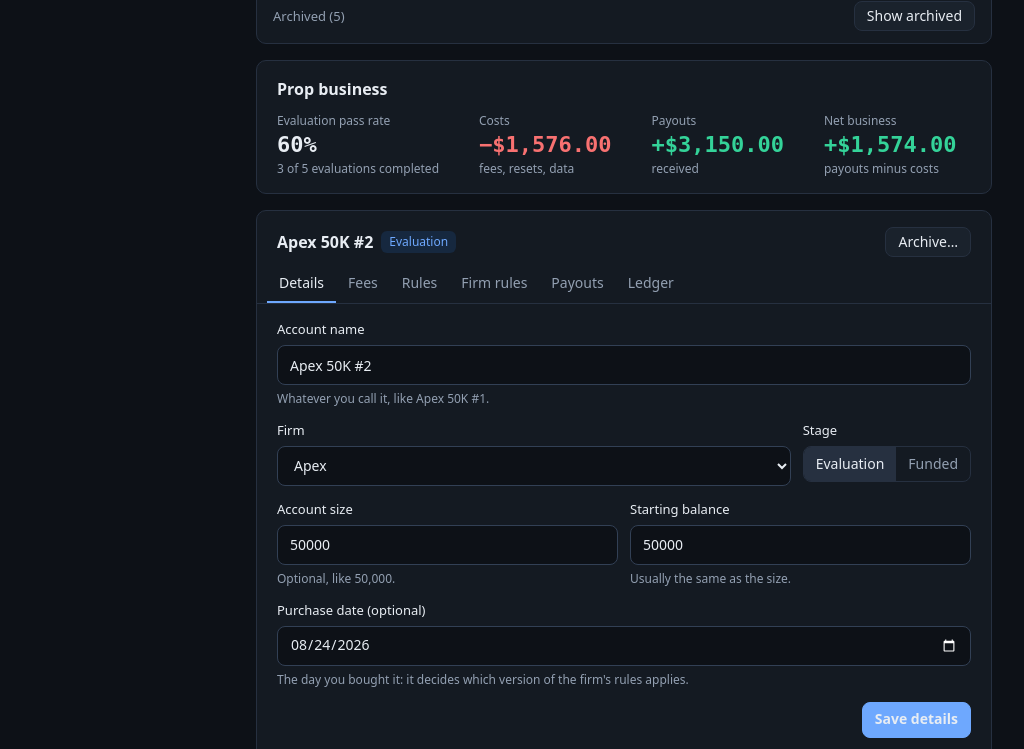
details › shows what is stored, and saves a change to it
The width and height of the screenshot is (1024, 749).
(page scrolled)
Expected: the dropdown labelled "Firm" shows "Apex", left=277, top=446, right=791, bottom=486
Expected: the field labelled "Account size" holds "50000", left=277, top=525, right=618, bottom=565
Replace the text in the field labelled "Account name" with "Apex 50K #2 (second go)" at (624, 365), box left=277, top=345, right=971, bottom=385
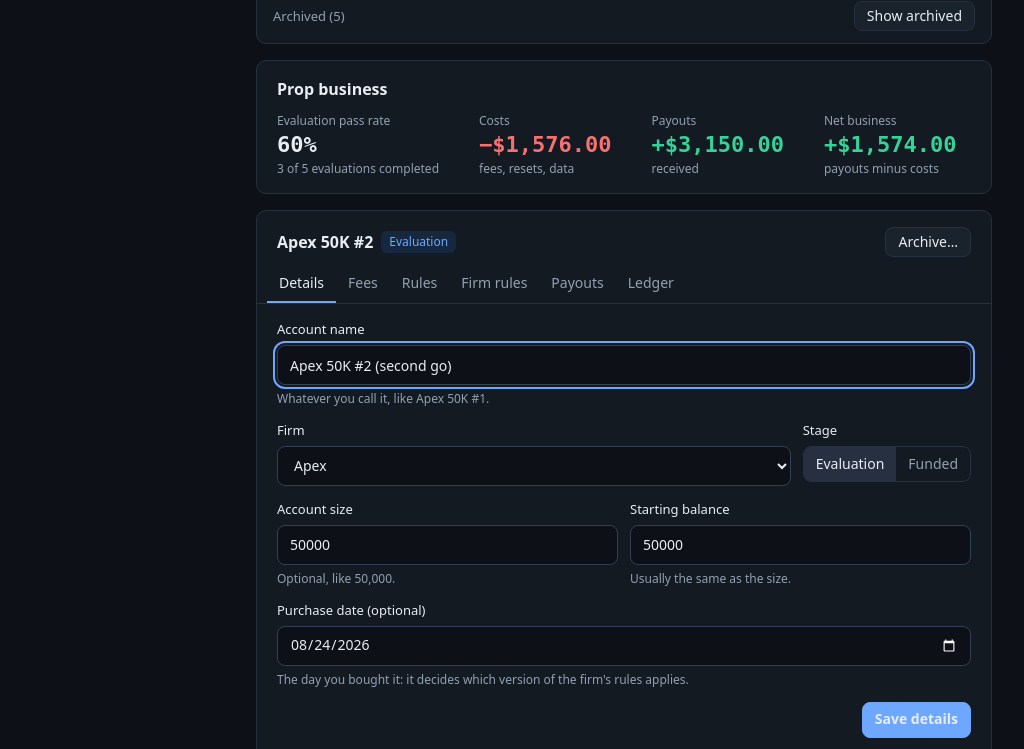
Click the button "Save details".
click(916, 720)  # box left=862, top=702, right=971, bottom=738
(page scrolled)
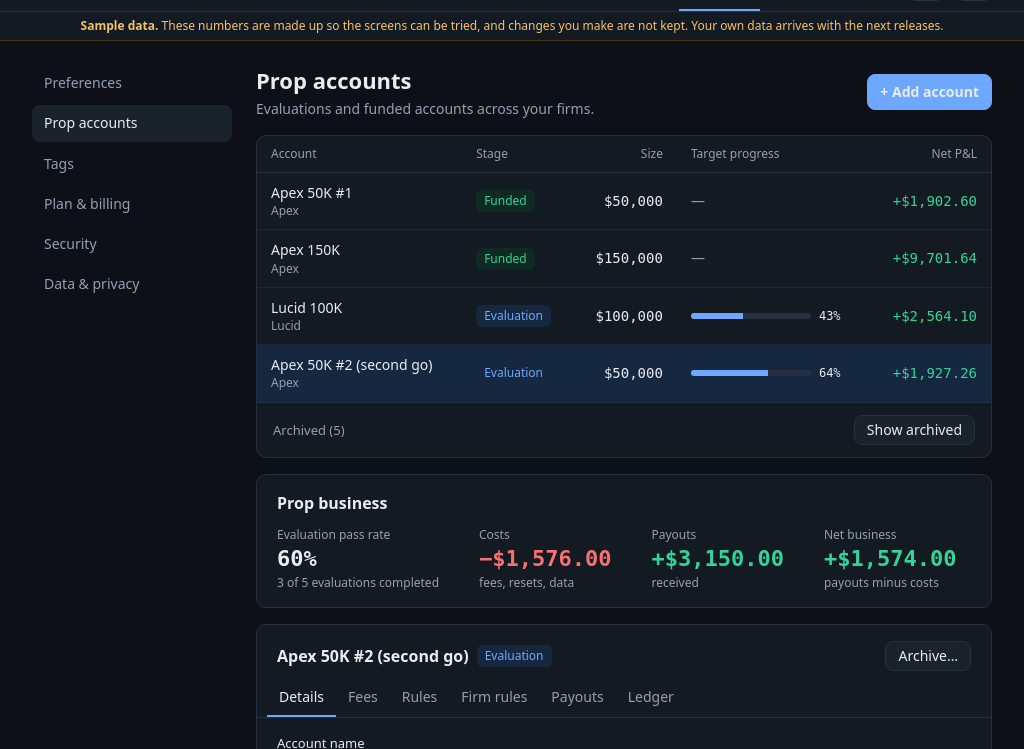
Result: the button "Apex 50K #2 (second go)" is shown at left=271, top=347, right=432, bottom=383
